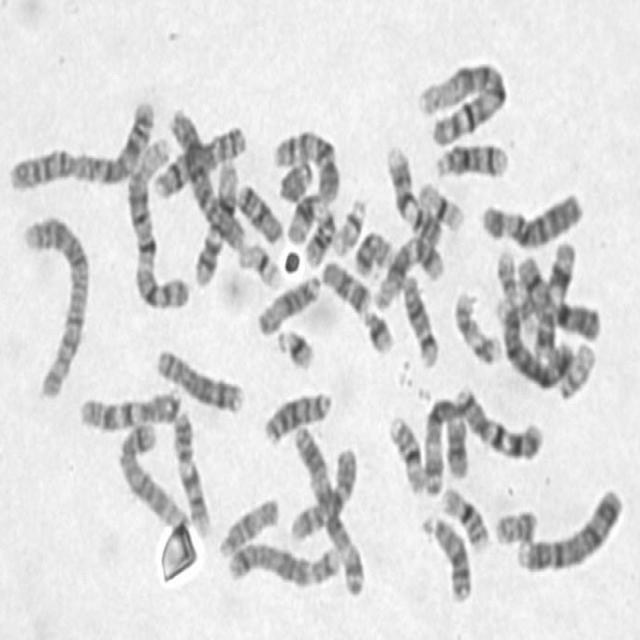A1: (122, 129, 192, 312), (413, 53, 510, 147)
A2: (2, 90, 159, 193), (18, 208, 90, 402)
A3: (290, 418, 368, 599), (420, 391, 471, 497)
B4: (512, 479, 626, 576), (493, 294, 578, 392)
B5: (114, 416, 195, 536), (222, 535, 342, 591)
C10: (284, 440, 358, 545), (268, 122, 342, 203)
C11: (532, 234, 578, 361), (284, 187, 338, 268)
C12: (190, 156, 239, 288), (372, 230, 446, 312)
C6: (166, 101, 248, 253), (479, 185, 586, 249)
C7: (449, 377, 546, 463), (77, 380, 184, 432)
C8: (152, 118, 248, 202), (152, 342, 248, 415)
C9: (382, 139, 444, 248), (170, 407, 213, 538)
D13: (418, 506, 474, 604), (260, 384, 335, 448)
D14: (398, 268, 442, 369), (430, 135, 511, 181)
D15: (214, 490, 283, 561), (254, 267, 322, 338)
E16: (438, 479, 491, 553), (384, 408, 428, 496)
E17: (451, 285, 504, 366), (493, 246, 539, 331)
E18: (233, 177, 284, 246), (319, 253, 373, 315)
F19: (414, 174, 466, 233), (233, 234, 283, 292)
F20: (350, 225, 395, 279), (489, 501, 539, 548)
G21: (272, 321, 317, 372), (359, 302, 396, 356)
G22: (553, 335, 598, 402), (328, 191, 368, 257)
X: (512, 249, 604, 345)
Y: (274, 154, 314, 203)
